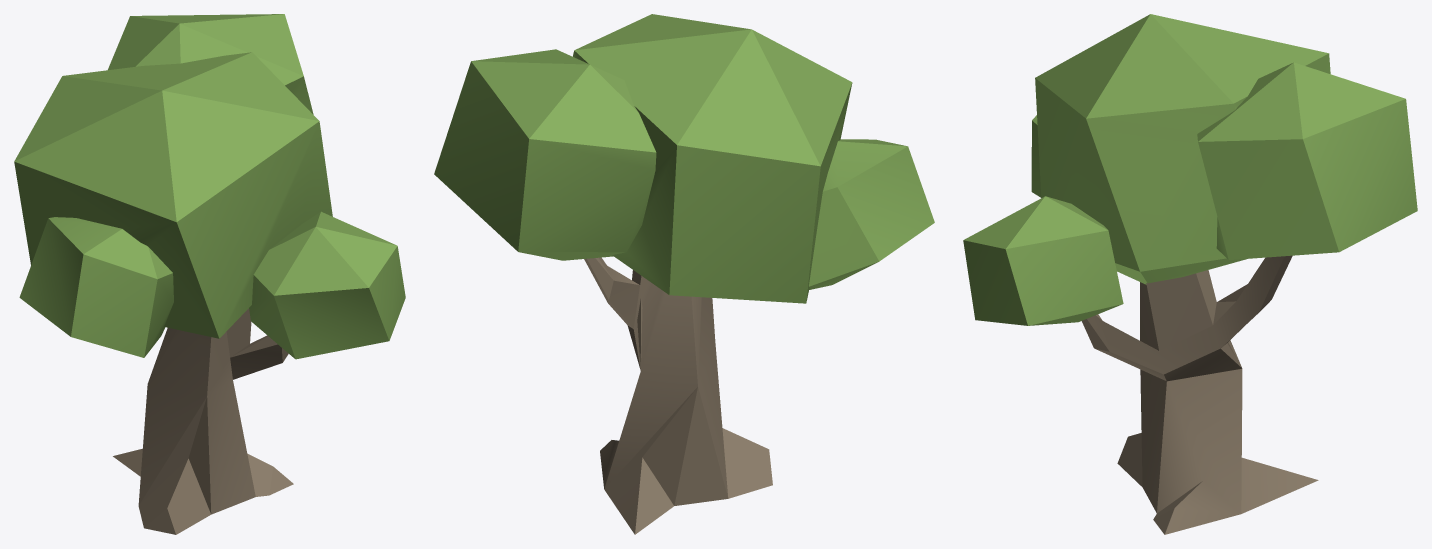
Rendered from Tree_Common_05.fbx.
The picture shows the model from 3 angles, left to right: view 1: azimuth 30°, elevation 25°; view 2: azimuth 150°, elevation 25°; view 3: azimuth 270°, elevation 25°; orthographic projection. The views are drawn at different scales.
Parts seen in each view (by area): view 1: Tree_Common_05; view 2: Tree_Common_05; view 3: Tree_Common_05.
Boxes of the visible parts, box(x1,y1,x2,y2) form: Tree_Common_05: box(14, 14, 405, 534); Tree_Common_05: box(434, 14, 934, 534); Tree_Common_05: box(963, 14, 1417, 534).
Size of the model in its own units: 83.88 by 99.89 by 91.36.
